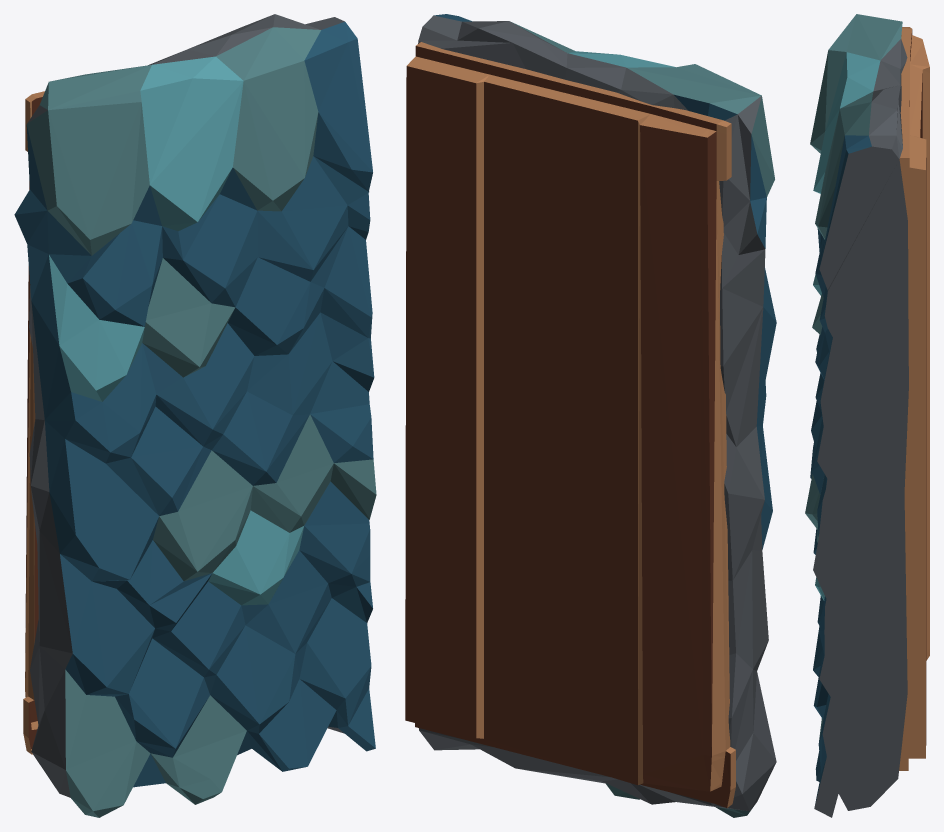
The model's file is MCastle_Roofs_02.FBX.
3 views of the same model, side by side, from view 1: azimuth 30°, elevation 25°; view 2: azimuth 150°, elevation 25°; view 3: azimuth 270°, elevation 25° (orthographic). The views are drawn at different scales.
Visible parts, largest first — view 1: MCastle_Roofs_02_LOD0; view 2: MCastle_Roofs_02_LOD0; view 3: MCastle_Roofs_02_LOD0.
Part boxes in pixels (x1,y1,x2,y2): MCastle_Roofs_02_LOD0: [14, 14, 376, 817]; MCastle_Roofs_02_LOD0: [405, 14, 776, 817]; MCastle_Roofs_02_LOD0: [805, 14, 929, 817].
Size of what is drawn, in the model's own units: 2.33 by 5.1 by 0.8346.
